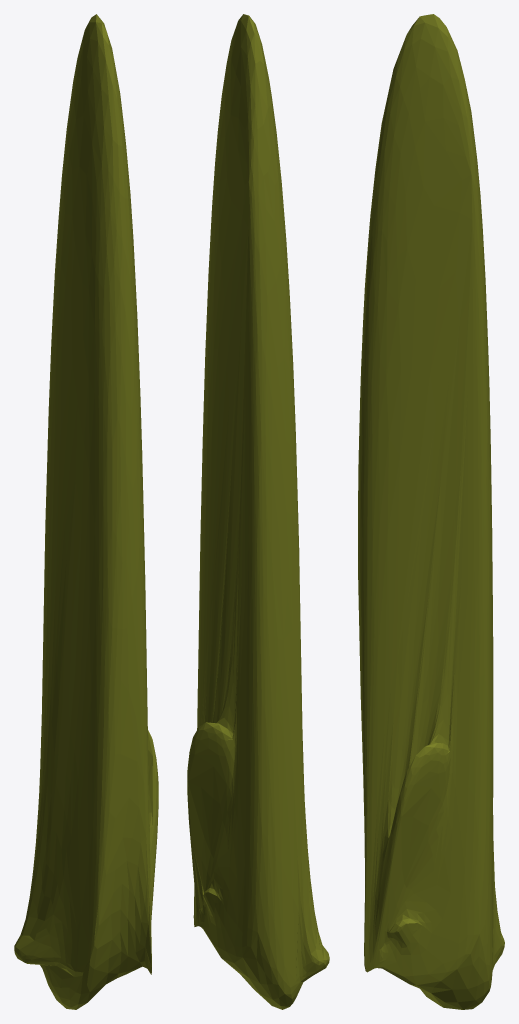
3 views of the same model, side by side, from view 1: azimuth 30°, elevation 25°; view 2: azimuth 210°, elevation 25°; view 3: azimuth 270°, elevation 25° (orthographic).
Parts seen in each view (by area): view 1: 432_Cube.1755; view 2: 432_Cube.1755; view 3: 432_Cube.1755.
Part boxes in pixels (<box>): 432_Cube.1755: <box>14,14,158,1009</box>; 432_Cube.1755: <box>187,14,329,1009</box>; 432_Cube.1755: <box>358,14,504,1009</box>.
Bounding box in the file's own units: 1.16 × 11.03 × 1.46.
